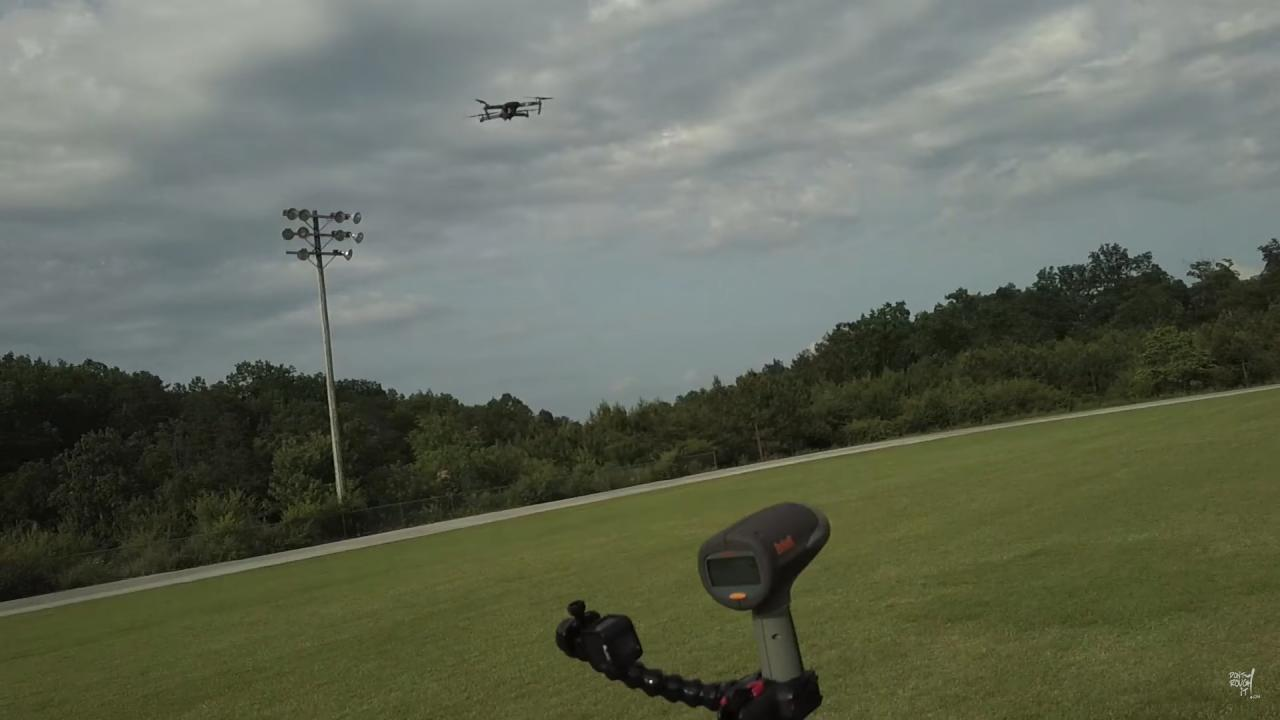Drone: (457, 86, 558, 130)
